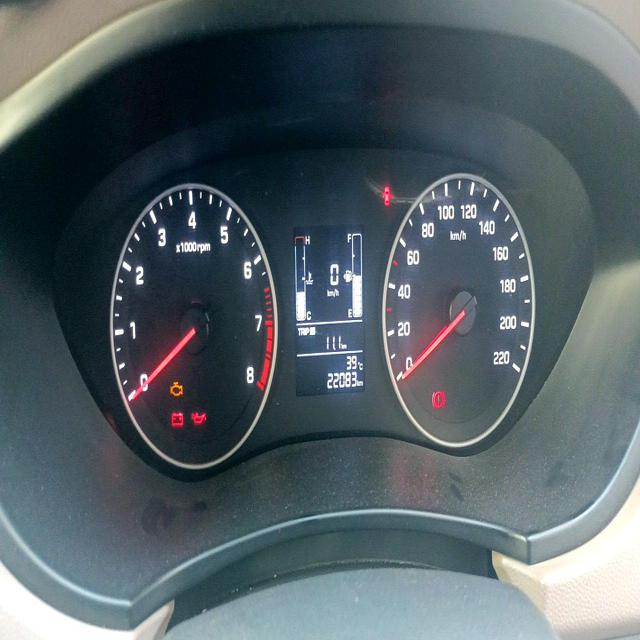odometer: (324, 369, 359, 393)
